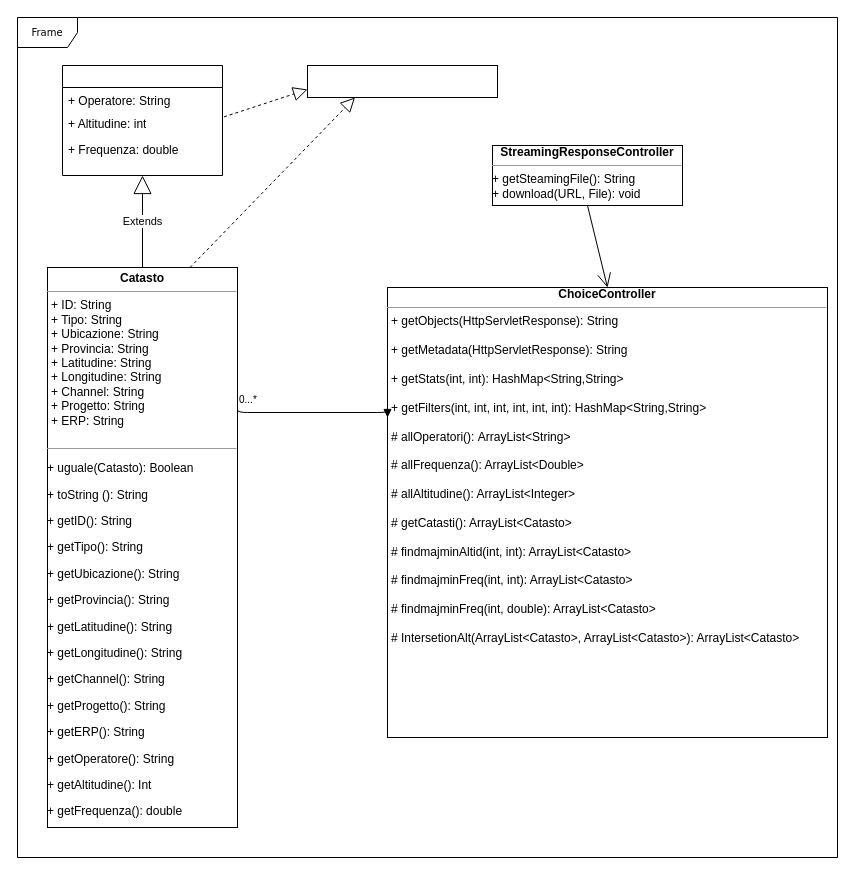
This 855x875 diagram has some shape labels left out. The box of each missing label's shape, as (x1, y1, x2, y2) in pixels:
<<Interface>> Serializable: (306, 64, 498, 98)
Statistiche: (62, 64, 222, 176)
